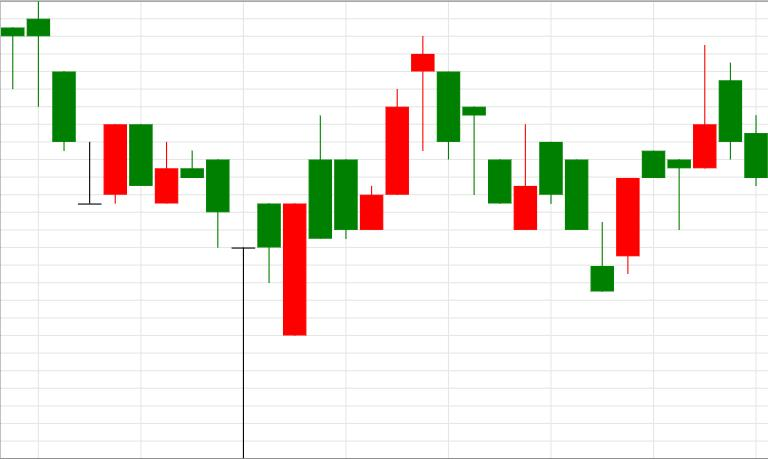evening_star_fall: (283, 36, 460, 336)
